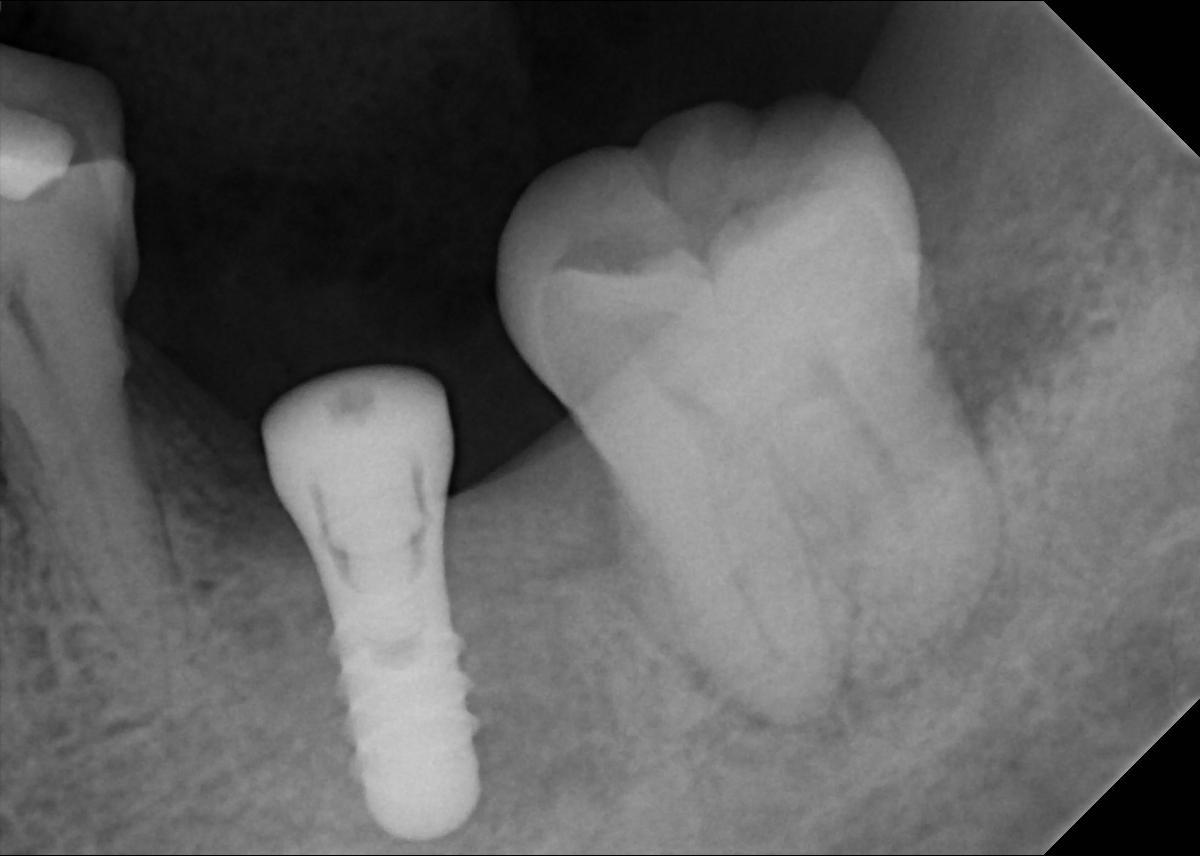Furcation Involvement: (672, 537, 1017, 755)
